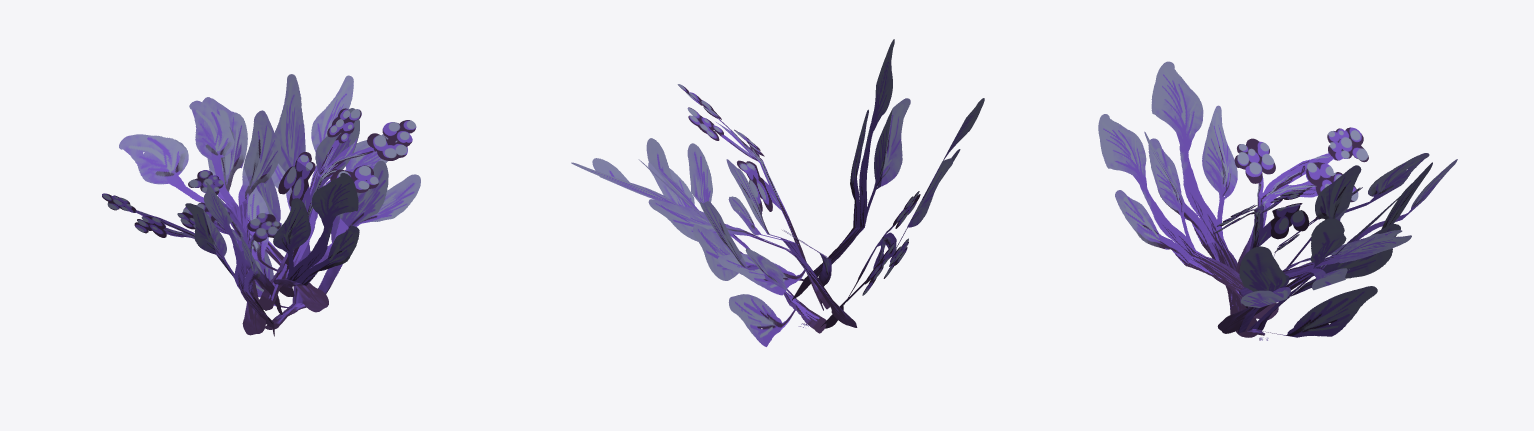
Rendered from BerryPlant.fbx.
3 views of the same model, side by side, from view 1: azimuth 30°, elevation 25°; view 2: azimuth 150°, elevation 25°; view 3: azimuth 270°, elevation 25° (orthographic). The views are drawn at different scales.
Visible parts, largest first — view 1: BerryPlant1; view 2: BerryPlant1; view 3: BerryPlant1.
Part boxes in pixels (x1=…): BerryPlant1: x1=102, y1=74, x2=420, y2=336; BerryPlant1: x1=571, y1=39, x2=984, y2=346; BerryPlant1: x1=1098, y1=61, x2=1457, y2=340.
Bounding box in the file's own units: 153 × 122 × 143.
